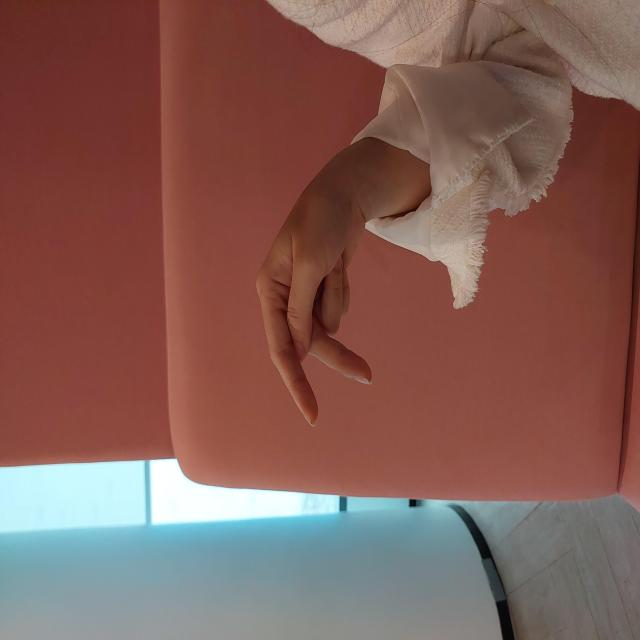P: (214, 256, 411, 373)
